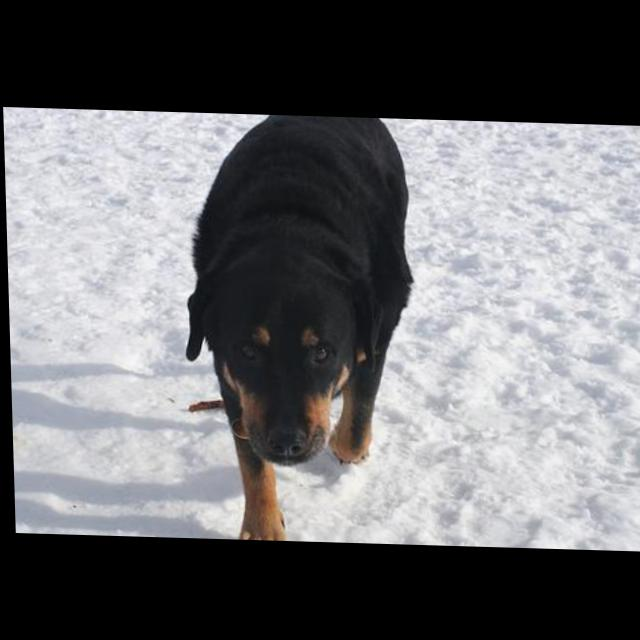rottweiler: (178, 112, 420, 543)
